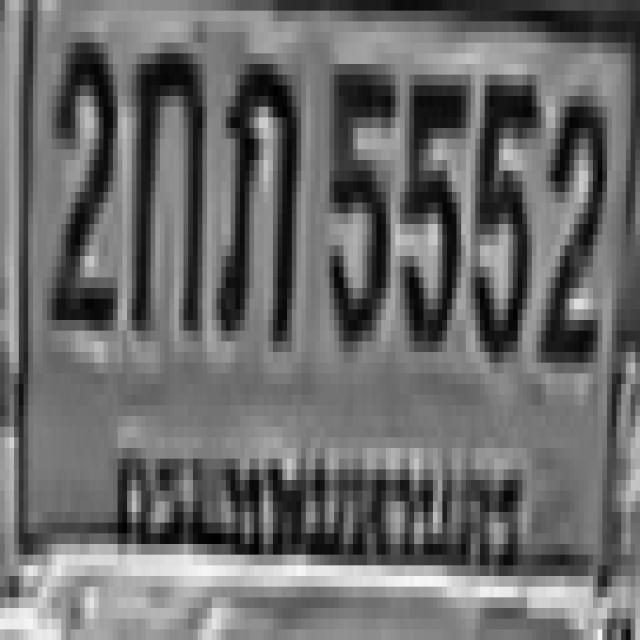10GorGai: (129, 32, 200, 320)
2: (44, 32, 110, 320), (536, 85, 602, 352)
41PhorSamPhao: (212, 53, 296, 331)
5: (324, 54, 390, 342), (468, 75, 534, 352), (398, 64, 463, 341)
Bangkok: (111, 423, 531, 603)
